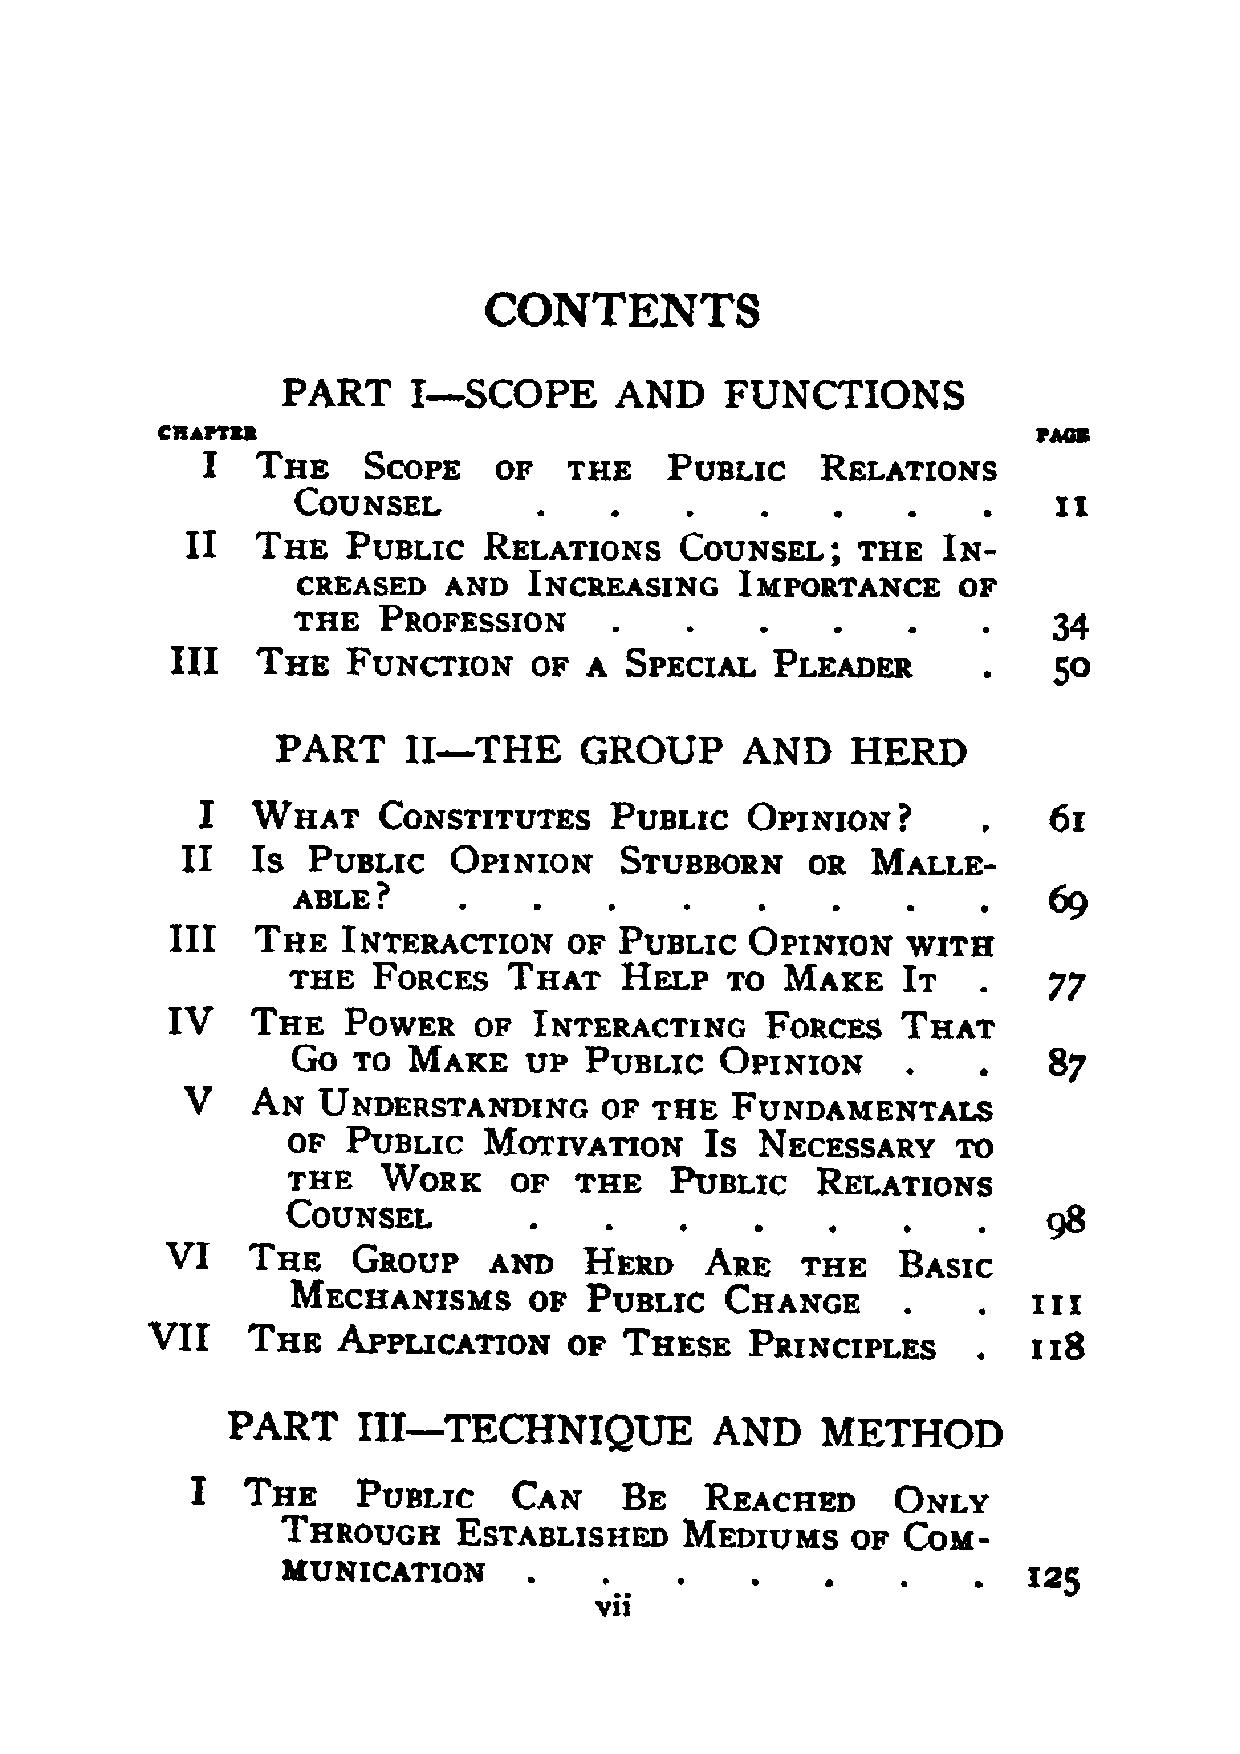TOC_chapter: (176, 1082, 998, 1232), (178, 1469, 998, 1588), (184, 526, 998, 633), (158, 1235, 998, 1319), (177, 837, 1005, 917), (162, 919, 998, 996), (160, 1004, 998, 1078), (199, 444, 1005, 518), (141, 1321, 939, 1369), (221, 1406, 1011, 1453), (166, 640, 925, 686), (268, 727, 968, 772), (193, 793, 921, 833), (282, 370, 973, 411)
TOC_pagenumber: (1023, 1559, 1096, 1602), (1025, 1284, 1088, 1317), (1043, 968, 1088, 1002), (1049, 1041, 1080, 1091), (1041, 1205, 1086, 1239), (1047, 803, 1091, 836), (1033, 1337, 1086, 1363), (1048, 880, 1088, 915), (1052, 652, 1092, 687), (1053, 609, 1088, 641), (1055, 490, 1091, 518)
chapter: (478, 272, 766, 336)
